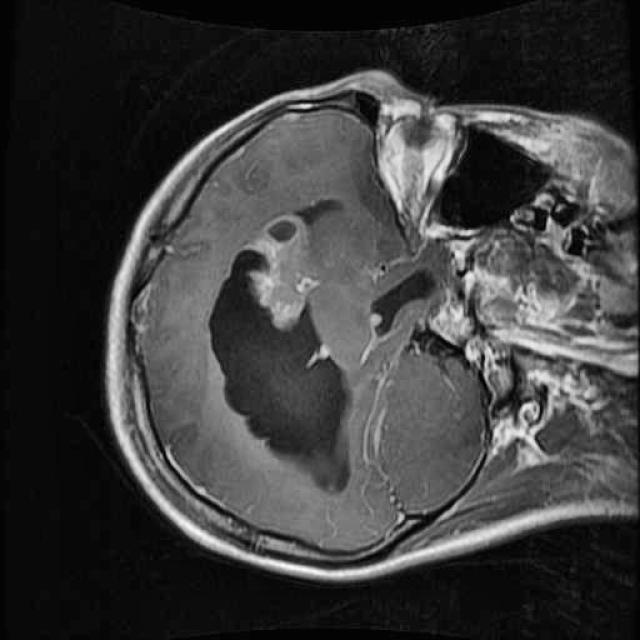Tumor: (227, 187, 335, 343)
